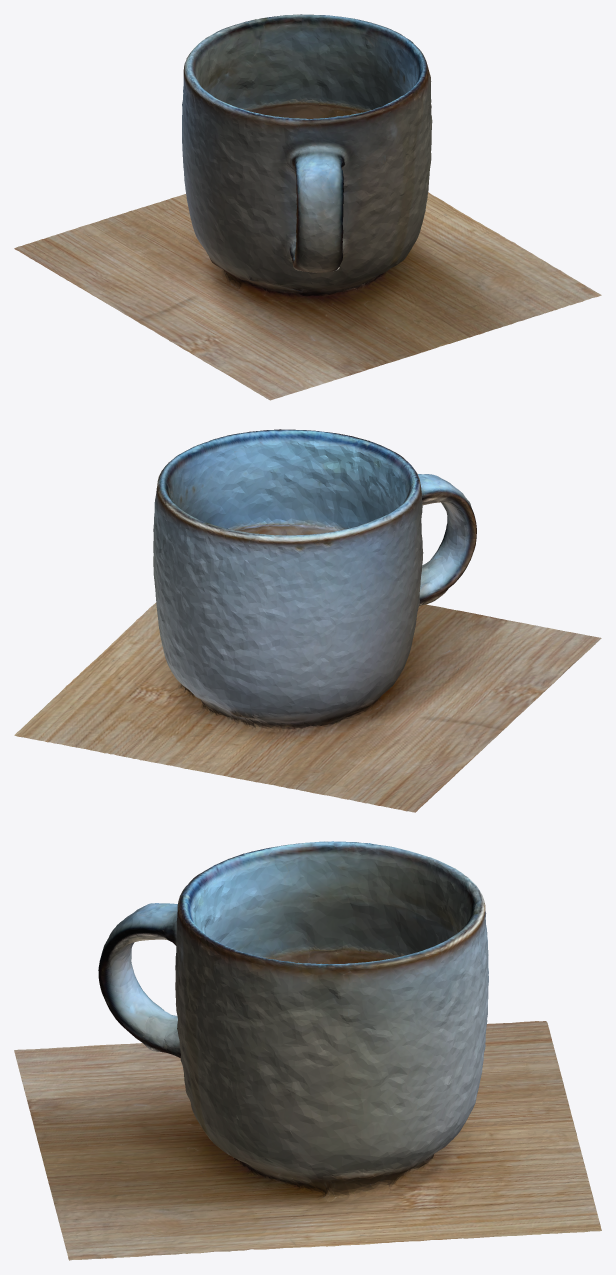
The model's file is Coffee Mug.glb.
3 renders of one model, top to bottom at view 1: azimuth 30°, elevation 25°; view 2: azimuth 150°, elevation 25°; view 3: azimuth 270°, elevation 25°, orthographic. The views are drawn at different scales.
Bounding box in the file's own units: 0.1772 × 0.0862 × 0.1852.
1 material, 1 textured.
